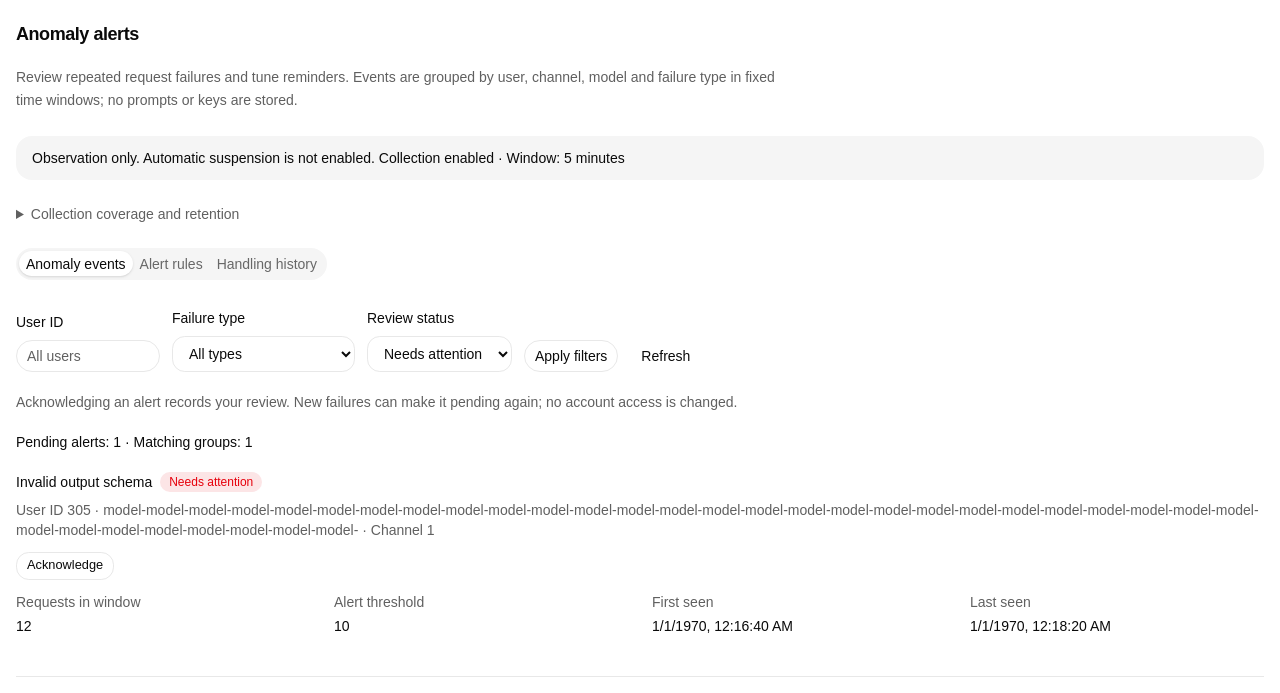
Scenario: an administrator can acknowledge an event but cannot edit rules
The image size is (1280, 693).
Click the button "Acknowledge": click(65, 566) [16,552,114,580]
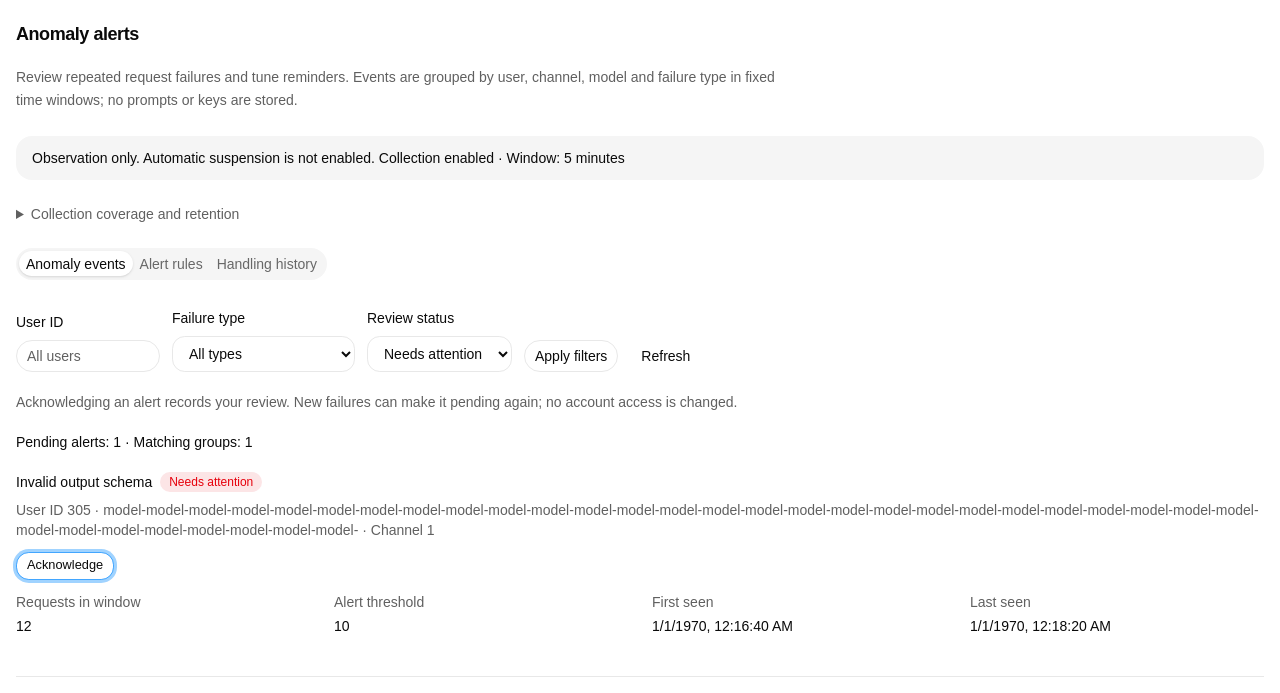
Click the tab "Alert rules": click(171, 264) [133,251,210,276]
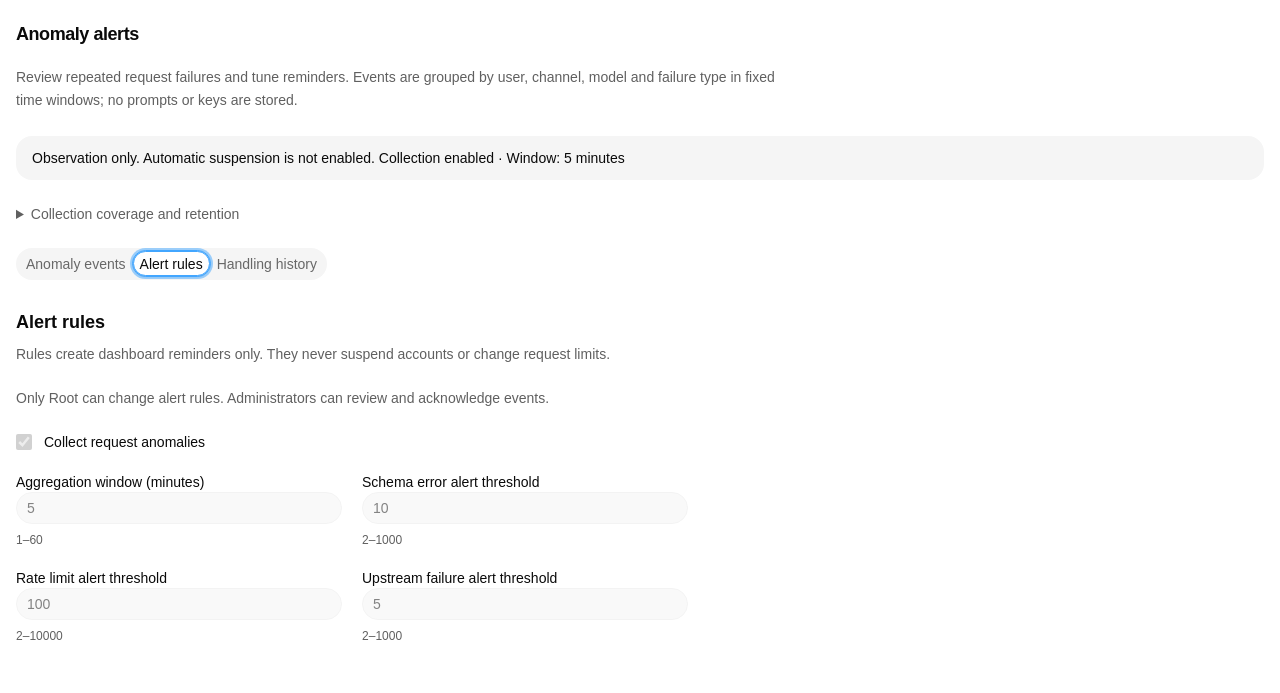
Expected: the checkbox labelled "Collect request anomalies" is disabled, [16,434,32,450]
